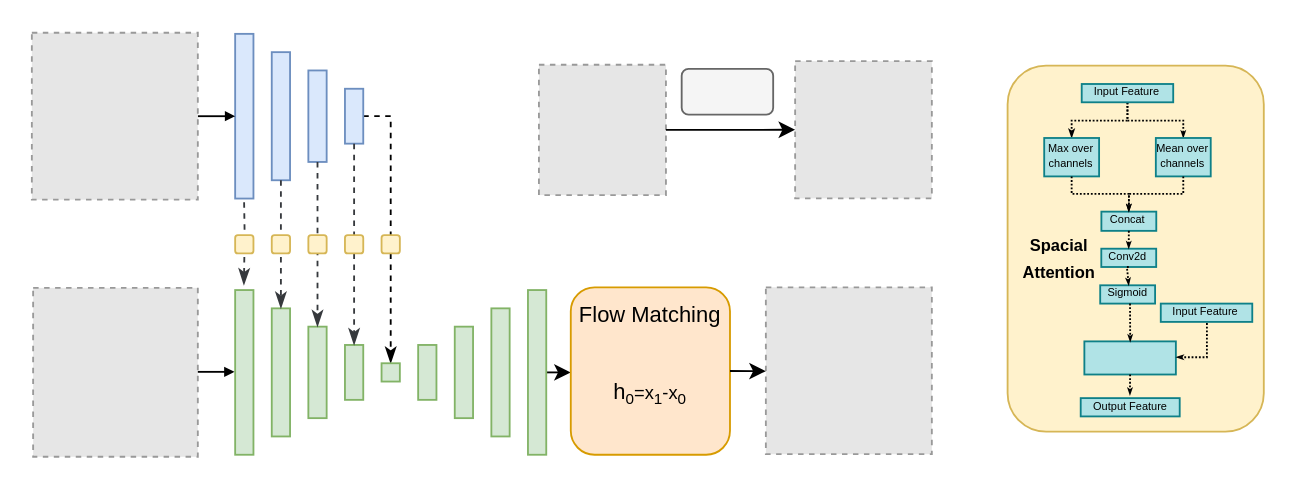
Image size: 1297x489. Some labels were removed from this diagram. Grey dashed boxes stand in for pictures. Each missing label, with the centre of its shape:
"1 step" belongs at [726,91].
"Element-wise Multiplication" belongs at [1129,356].
